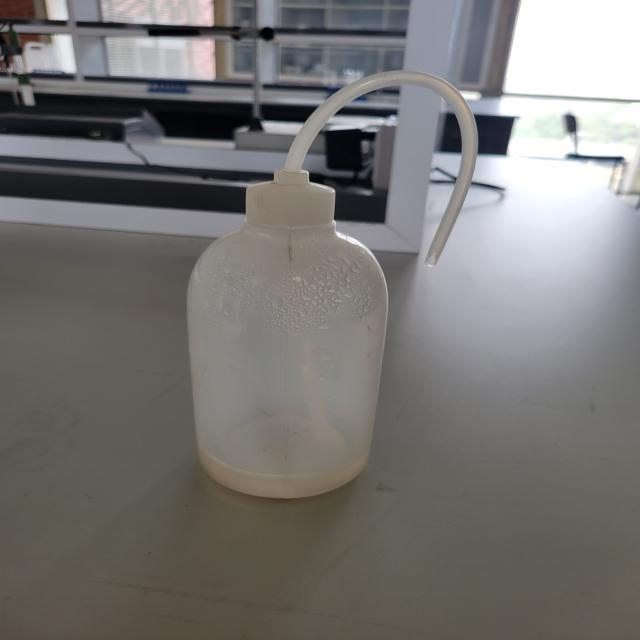Wash_Bottle: (151, 40, 524, 518)
